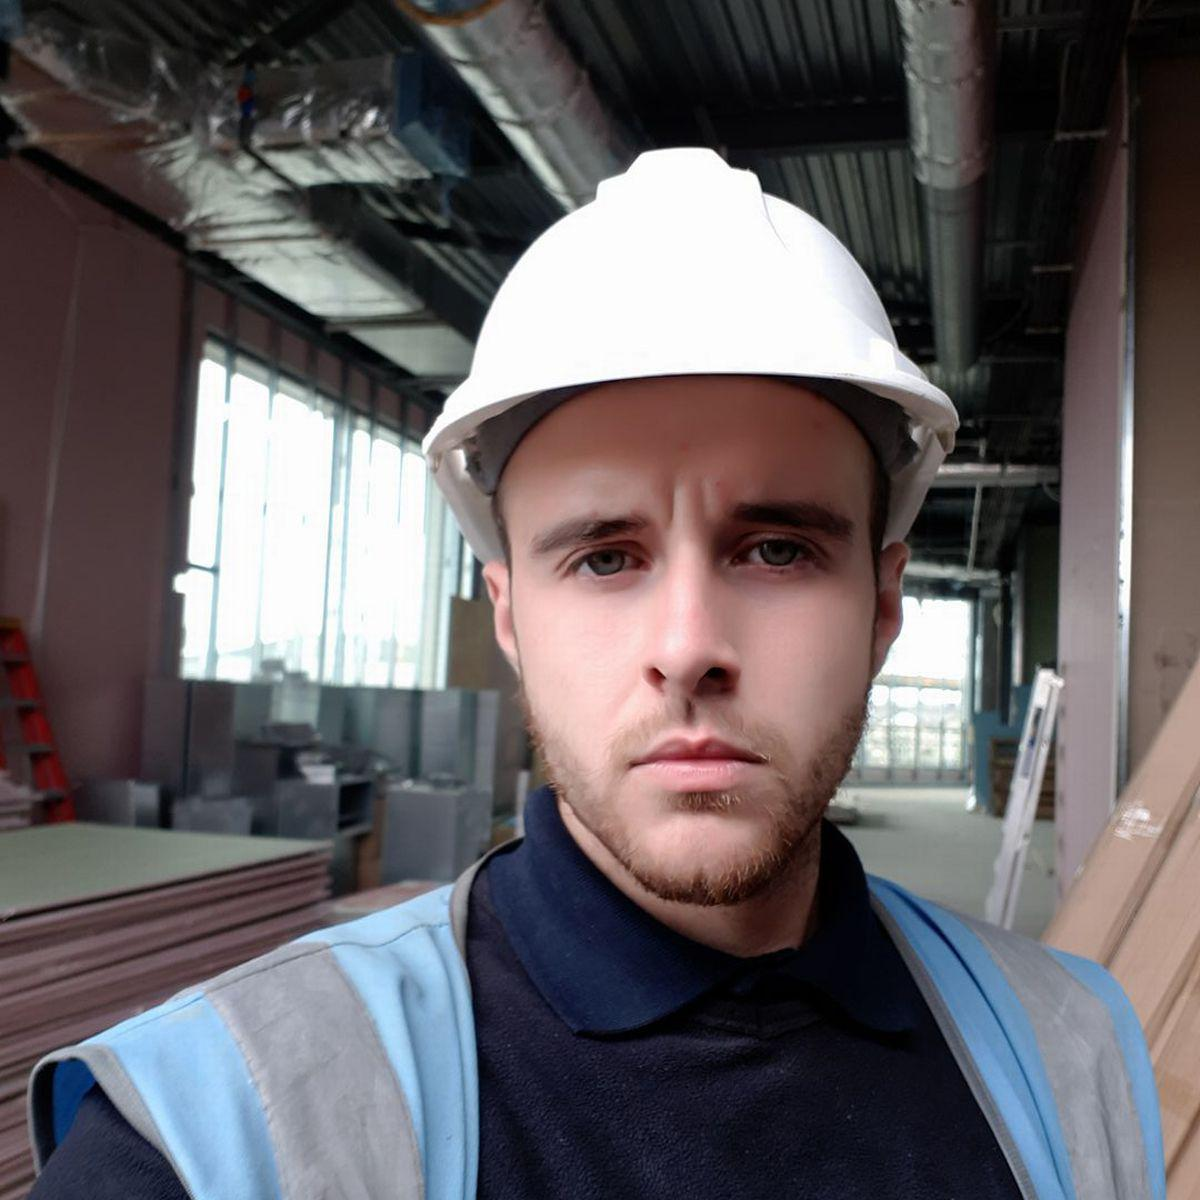helmet: (414, 145, 962, 512)
